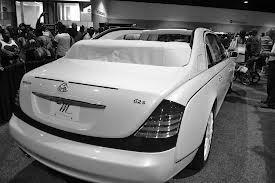car: (7, 28, 237, 183)
